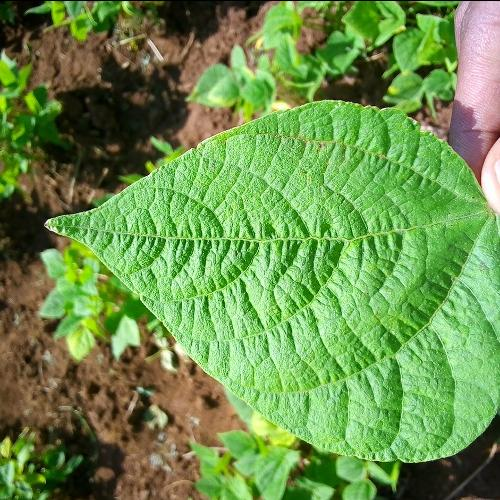sehat: (55, 104, 499, 457)
